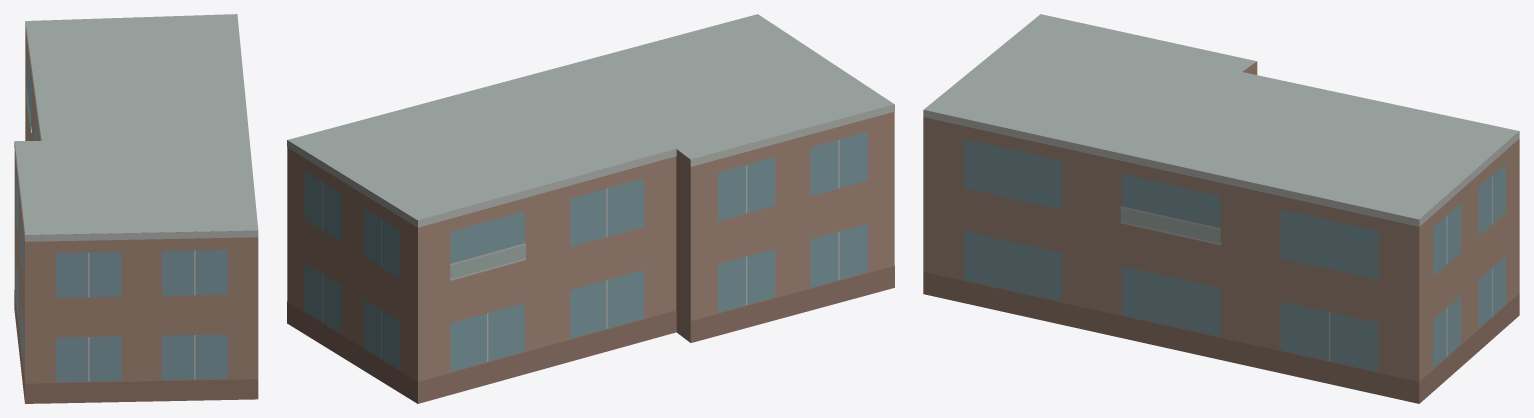
File: survey-upis-32889613.glb
3 renders of one model, left to right at view 1: azimuth 30°, elevation 25°; view 2: azimuth 150°, elevation 25°; view 3: azimuth 270°, elevation 25°, orthographic. The views are drawn at different scales.
Visible parts, largest first — view 1: survey-upis-32889613.tmp; view 2: survey-upis-32889613.tmp; view 3: survey-upis-32889613.tmp.
Part boxes in pixels (left/top/right/bottom): survey-upis-32889613.tmp: left=14, top=14, right=258, bottom=403; survey-upis-32889613.tmp: left=287, top=14, right=894, bottom=403; survey-upis-32889613.tmp: left=923, top=14, right=1519, bottom=403.
Bounding box in the file's own units: 14.6 × 6.1 × 17.89.
